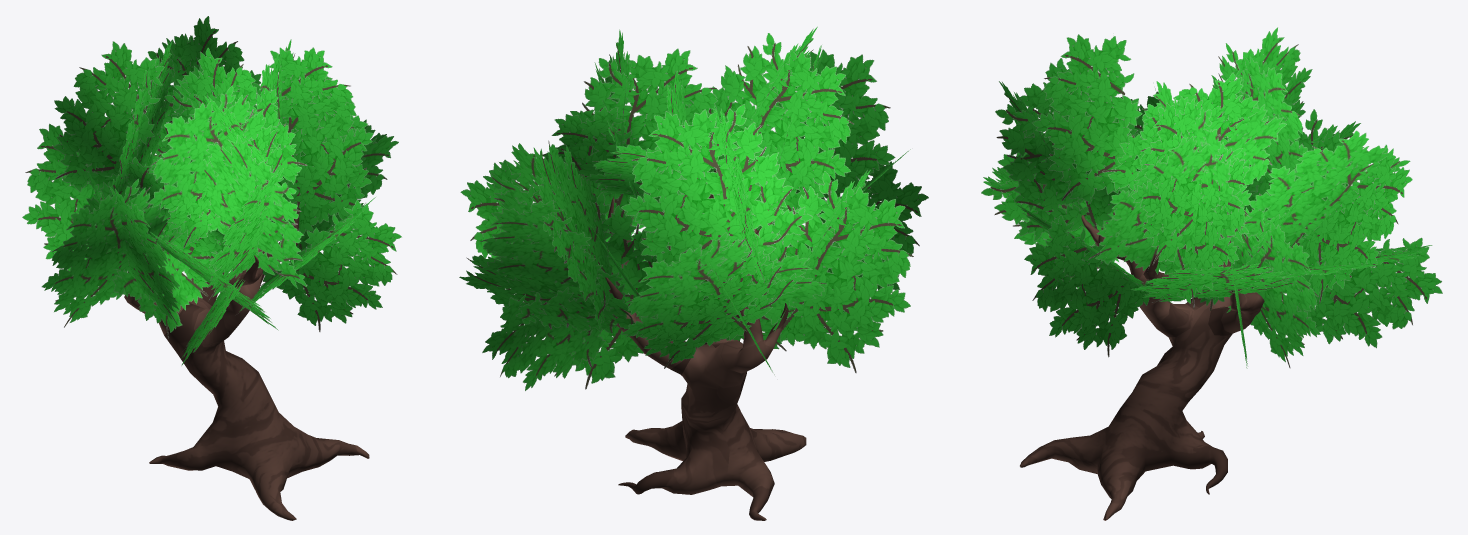
File: Environment_Tree_001_Mesh.fbx
3 views of the same model, side by side, from view 1: azimuth 30°, elevation 25°; view 2: azimuth 150°, elevation 25°; view 3: azimuth 270°, elevation 25° (orthographic). The views are drawn at different scales.
Parts seen in each view (by area): view 1: Environment_Tree_001_Branch_Mesh, Environment_Tree_001_Trunk_Mesh; view 2: Environment_Tree_001_Branch_Mesh, Environment_Tree_001_Trunk_Mesh; view 3: Environment_Tree_001_Branch_Mesh, Environment_Tree_001_Trunk_Mesh.
Boxes of the visible parts, x1,y1,x2,y2 form: Environment_Tree_001_Branch_Mesh: (22,16,401,365); Environment_Tree_001_Trunk_Mesh: (124,213,369,520); Environment_Tree_001_Branch_Mesh: (459,26,928,390); Environment_Tree_001_Trunk_Mesh: (605,170,806,520); Environment_Tree_001_Branch_Mesh: (981,27,1442,368); Environment_Tree_001_Trunk_Mesh: (1020,190,1298,520).
Size of the model in its own units: 1085 by 1075 by 1105.
2 materials, 2 textured.
